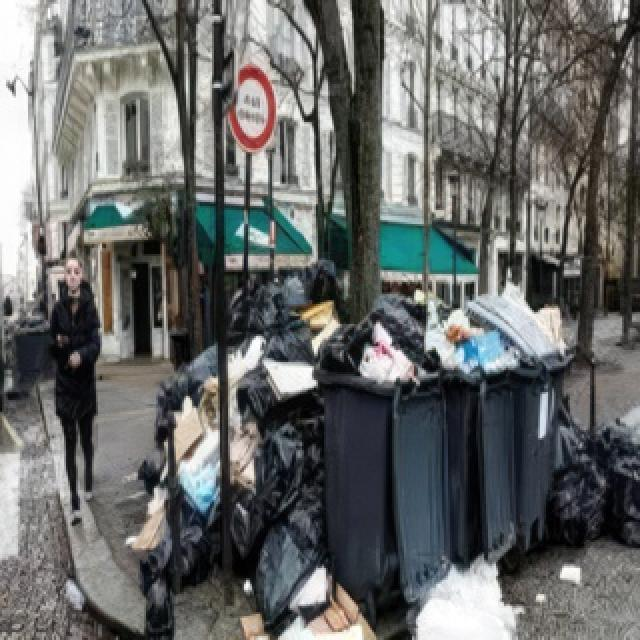Trashbag: (246, 508, 325, 624), (323, 322, 438, 392), (252, 431, 328, 528), (147, 350, 216, 449), (550, 463, 615, 552), (149, 526, 211, 584), (231, 281, 278, 347), (252, 326, 312, 376), (596, 415, 640, 482), (608, 463, 640, 554)
